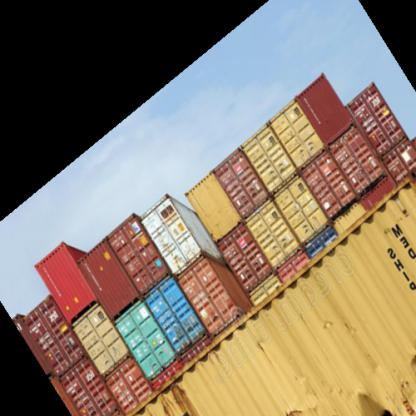Damage: (354, 386, 411, 412)
